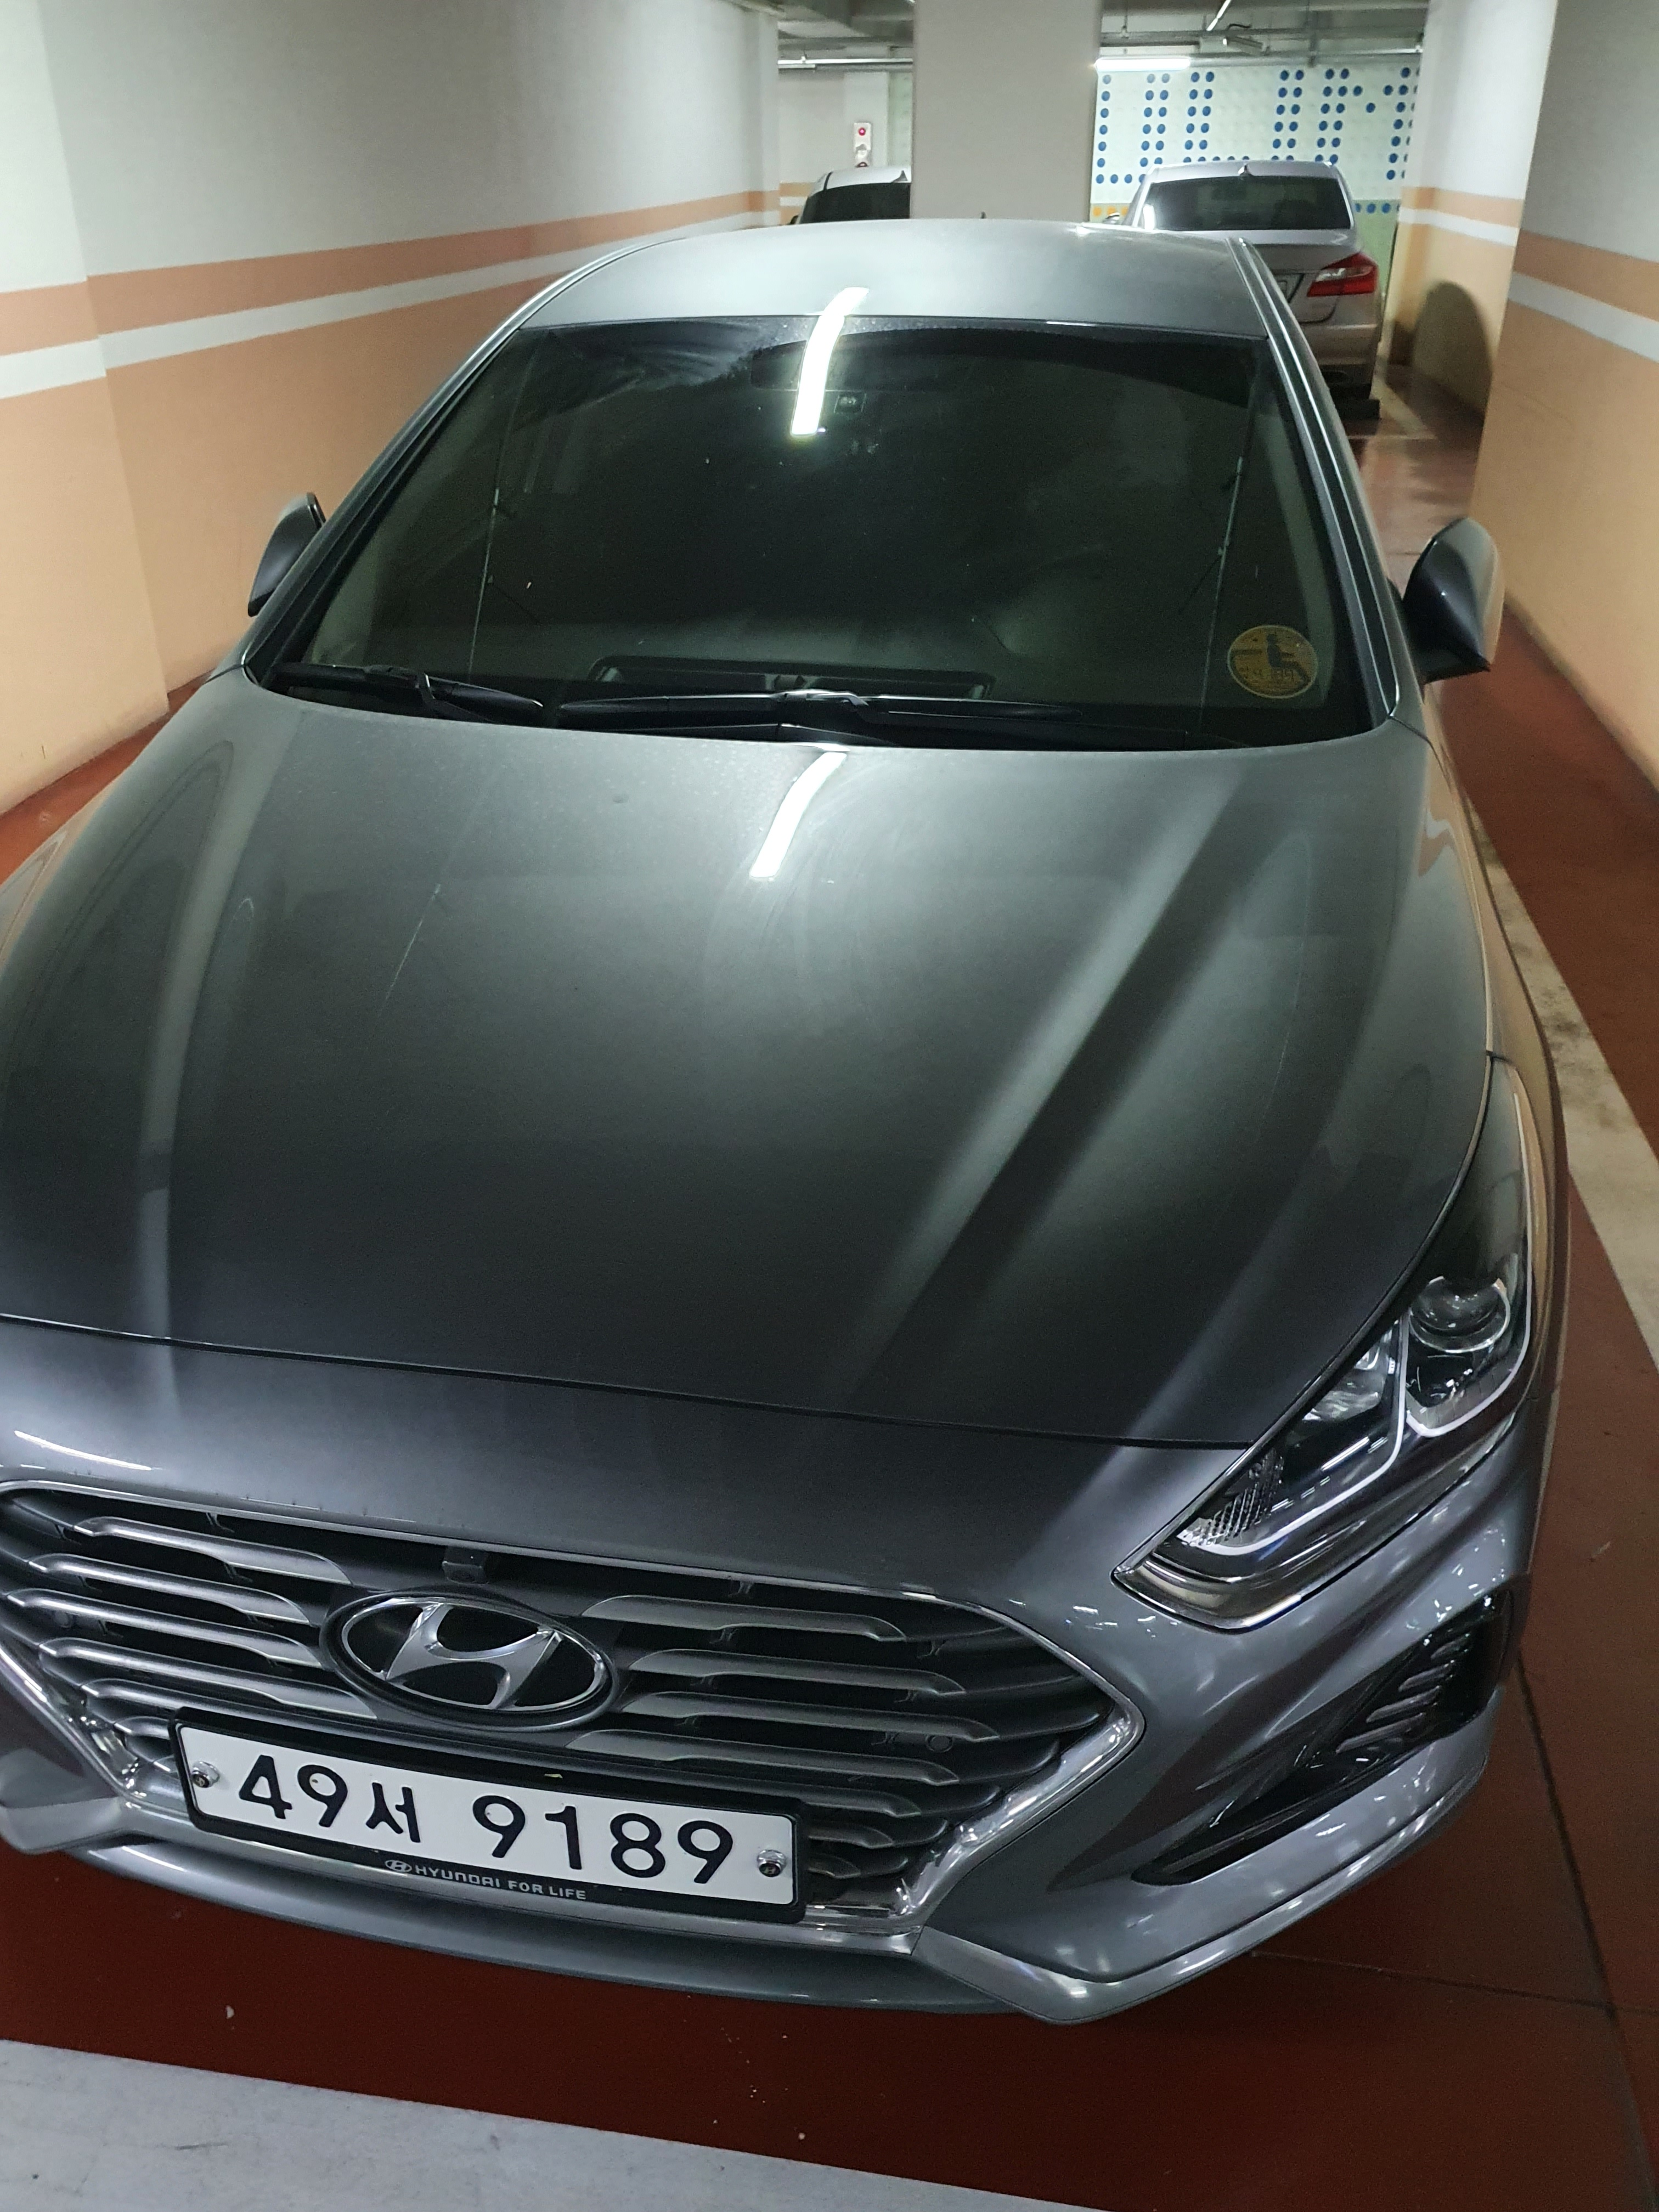disabled_parking: (1222, 611, 1323, 700)
